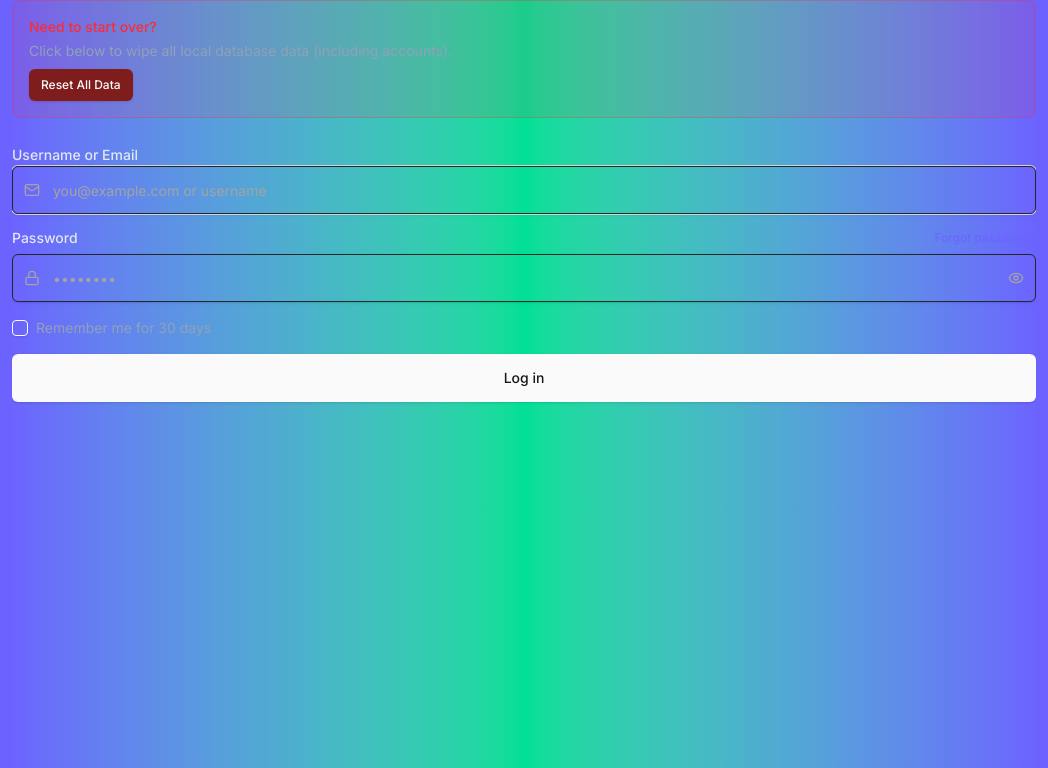
Test: Login — spec A.1 / C.1 / C.3 / A.3 / B.3 › shows a generic error and clears only the password on credential failure (C.1 / A.3)
Type "User@Example.com" into the field labelled "Username or Email".
click(524, 190); type("User@Example.com")  # box [12,166,1036,214]
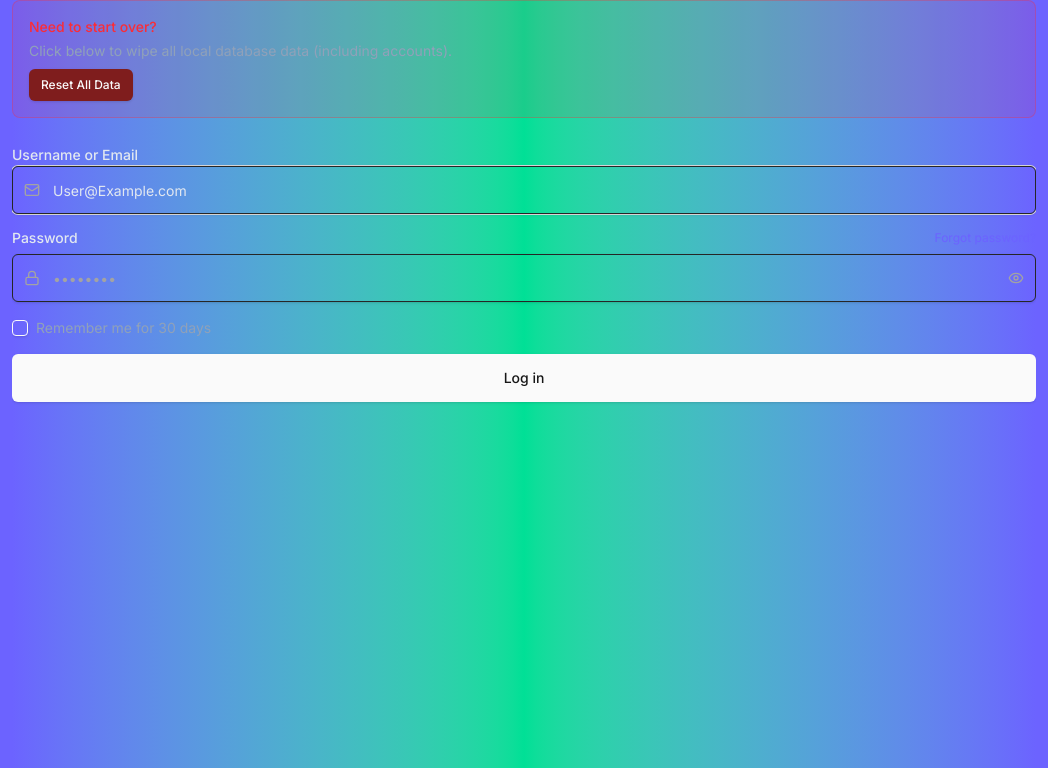
Type "secret123" into the password field labelled "Password".
click(524, 278); type("secret123")  # box [12,254,1036,302]
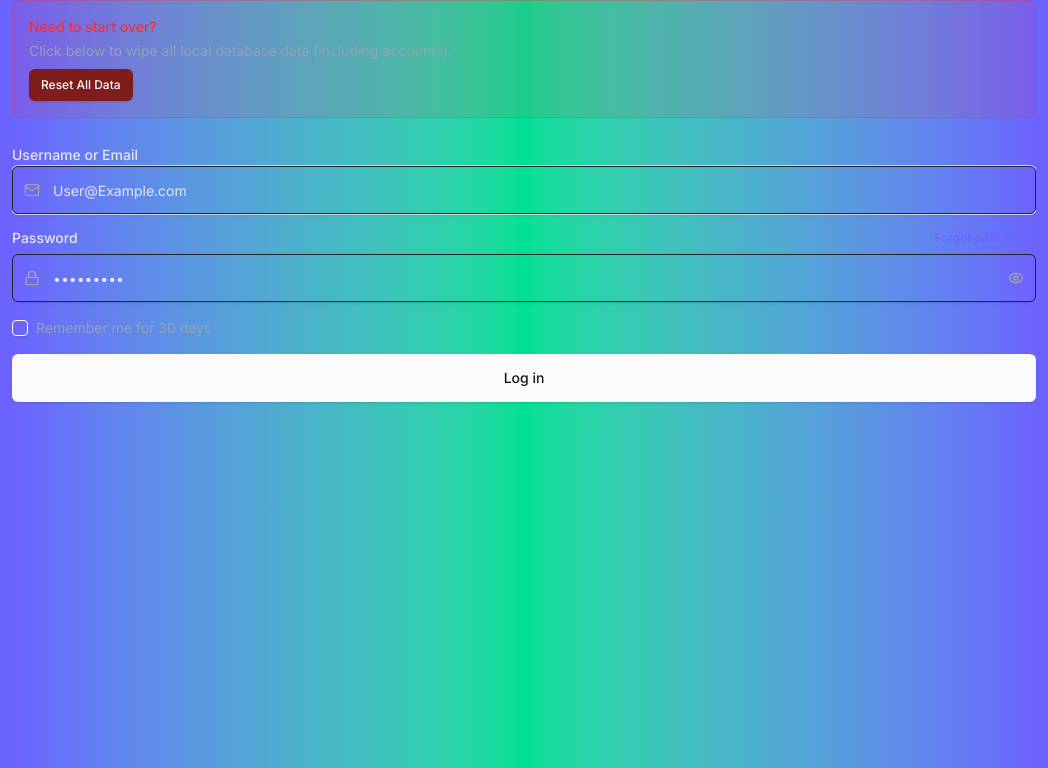
Click the button "Log in".
click(524, 378)  # box [12,354,1036,402]
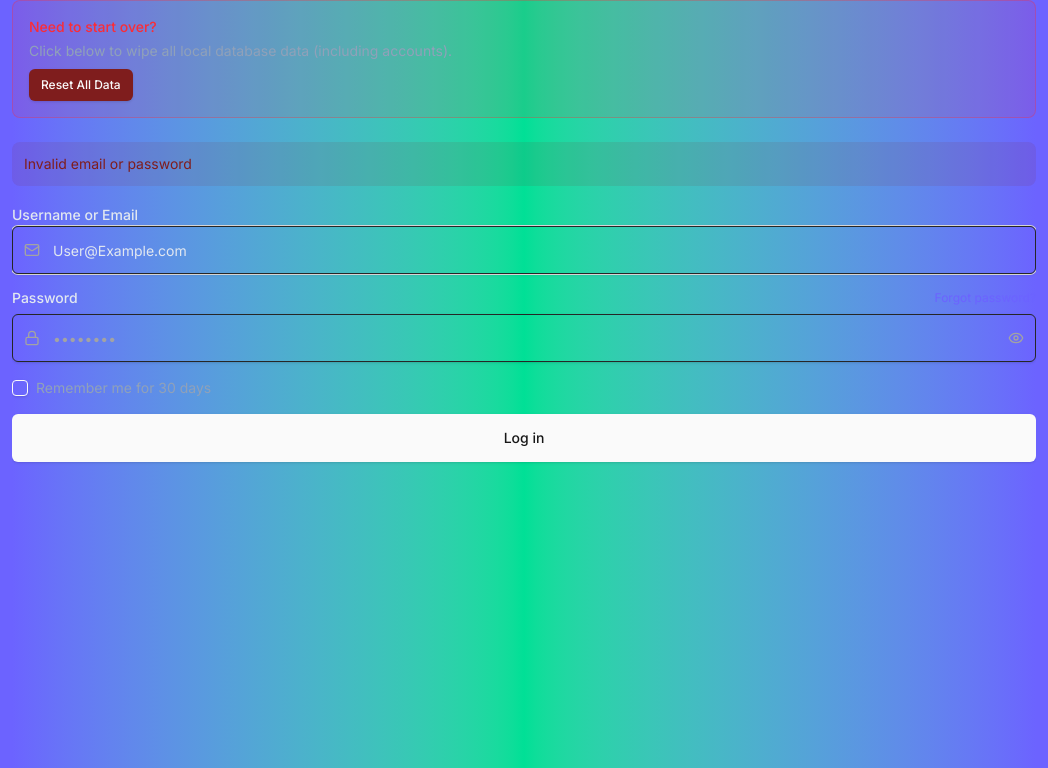
Expected: the text "Invalid email or password" is shown, [12,142,1036,186]
Expected: the password field labelled "Password" is empty, [12,314,1036,362]
